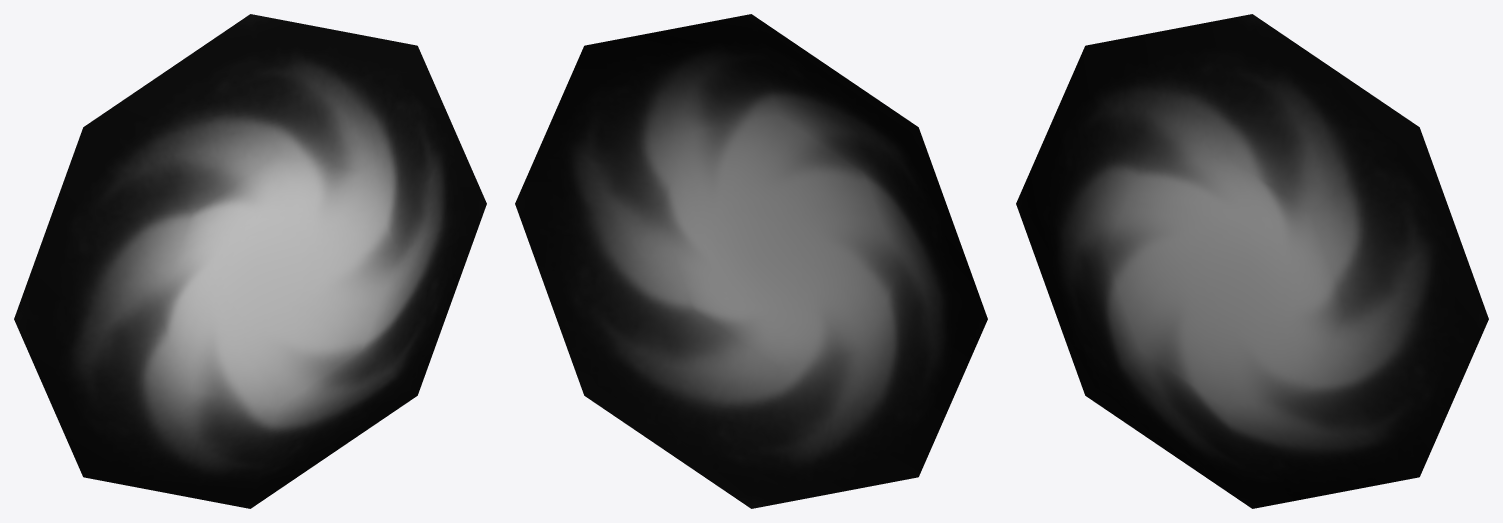
Rendered from part_trap_spiral.glb.
The picture shows the model from 3 angles, left to right: view 1: azimuth 30°, elevation 25°; view 2: azimuth 150°, elevation 25°; view 3: azimuth 330°, elevation 25°; orthographic projection.
Parts seen in each view (by area): view 1: obsidian_obelisk.part_trap_spiral-Mesh[0]; view 2: obsidian_obelisk.part_trap_spiral-Mesh[0]; view 3: obsidian_obelisk.part_trap_spiral-Mesh[0].
Part boxes in pixels (x1,y1,x2,y2): obsidian_obelisk.part_trap_spiral-Mesh[0]: (14, 14, 486, 508); obsidian_obelisk.part_trap_spiral-Mesh[0]: (515, 14, 987, 508); obsidian_obelisk.part_trap_spiral-Mesh[0]: (1016, 14, 1488, 508).
Size of the model in its own units: 2 by 2 by 0.1965.
1 material, 1 textured.
